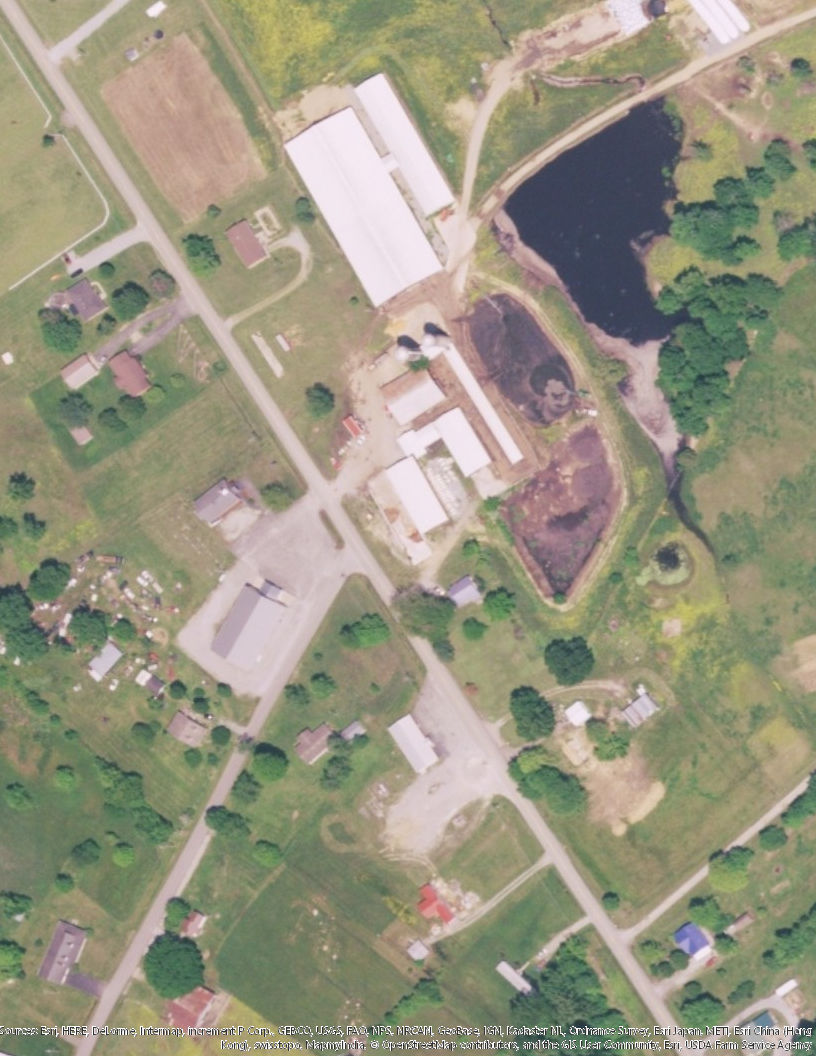cafo: (277, 61, 466, 306), (390, 400, 501, 487), (382, 453, 458, 543), (379, 351, 448, 425)
